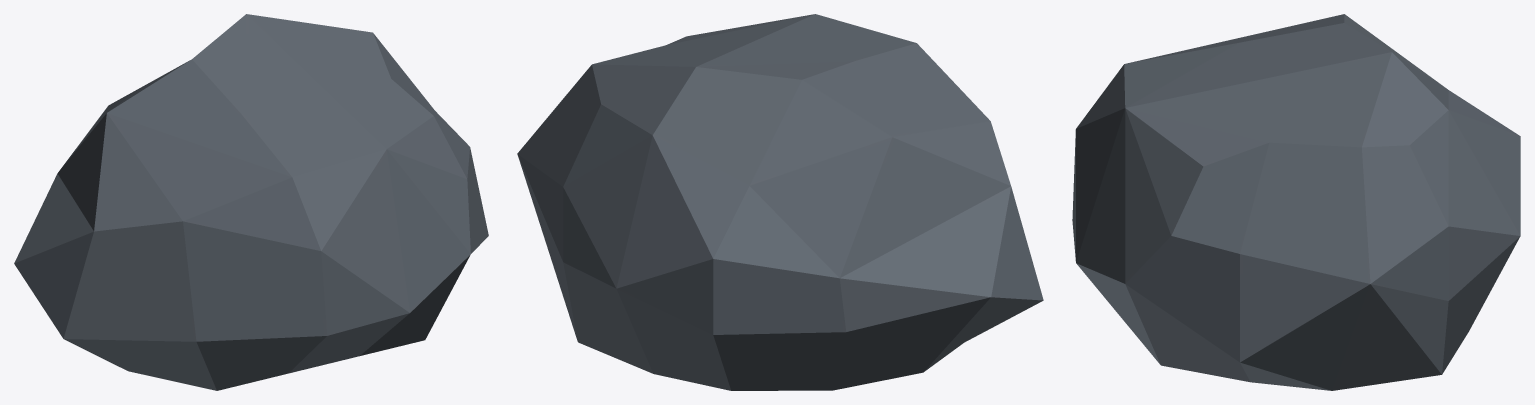
Rendered from Boulder-A13.fbx.
3 views of the same model, side by side, from view 1: azimuth 30°, elevation 25°; view 2: azimuth 150°, elevation 25°; view 3: azimuth 270°, elevation 25° (orthographic). The views are drawn at different scales.
Visible parts, largest first — view 1: Boulder-A13; view 2: Boulder-A13; view 3: Boulder-A13.
Part boxes in pixels (x1,y1,x2,y2): Boulder-A13: (14,14,488,390); Boulder-A13: (517,14,1043,390); Boulder-A13: (1072,14,1520,390).
Bounding box in the file's own units: 145 × 84.16 × 123.
